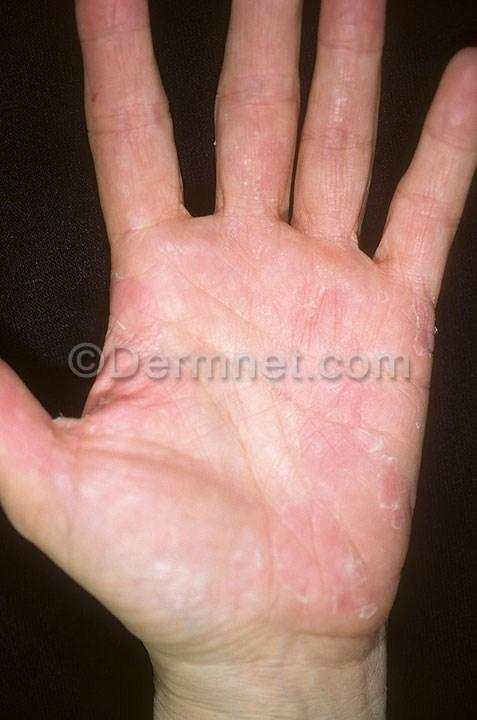Eczema: (254, 480, 350, 578), (268, 421, 365, 496), (308, 348, 390, 429), (43, 432, 131, 506), (366, 294, 438, 381), (282, 280, 353, 356), (383, 214, 444, 293), (357, 455, 416, 536), (322, 556, 391, 621), (177, 226, 246, 291), (101, 80, 152, 166), (146, 338, 219, 395), (0, 393, 62, 460), (84, 0, 144, 67), (304, 114, 368, 176), (219, 166, 279, 232), (106, 264, 167, 328), (326, 0, 374, 80), (230, 40, 289, 105), (243, 572, 315, 624), (307, 200, 360, 268), (235, 117, 294, 174), (111, 382, 166, 436), (433, 90, 477, 147)
